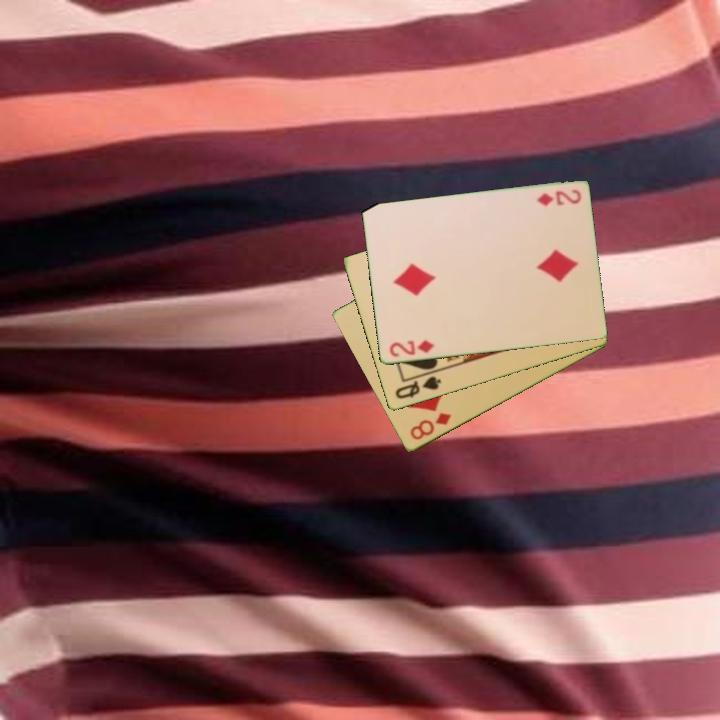2d: (386, 337, 437, 360), (533, 186, 584, 209)
8d: (406, 409, 454, 443)
Qs: (391, 373, 444, 402)
